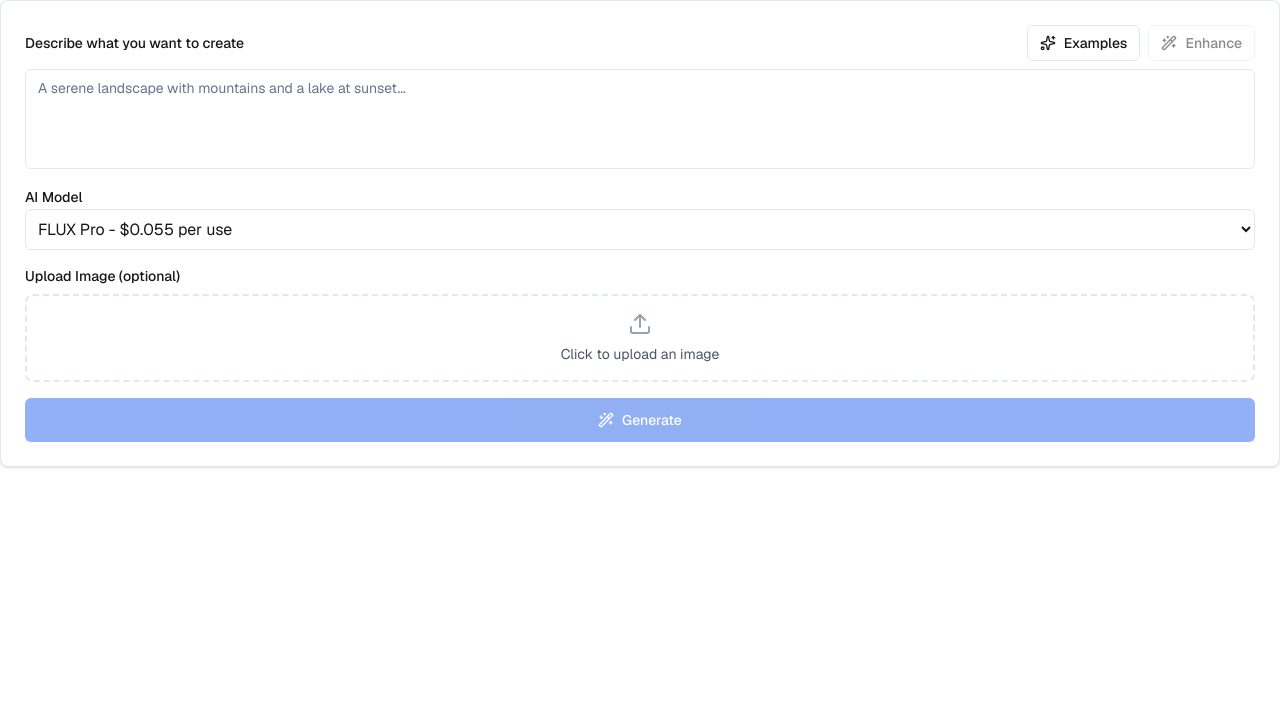
PromptInput Component › shows enhanced prompt when enhance is clicked
Type "mountain landscape" into the text box with placeholder "A serene landscape with mountains and a lake at sunset...".
click(640, 119); type("mountain landscape")  # box [25,69,1255,169]
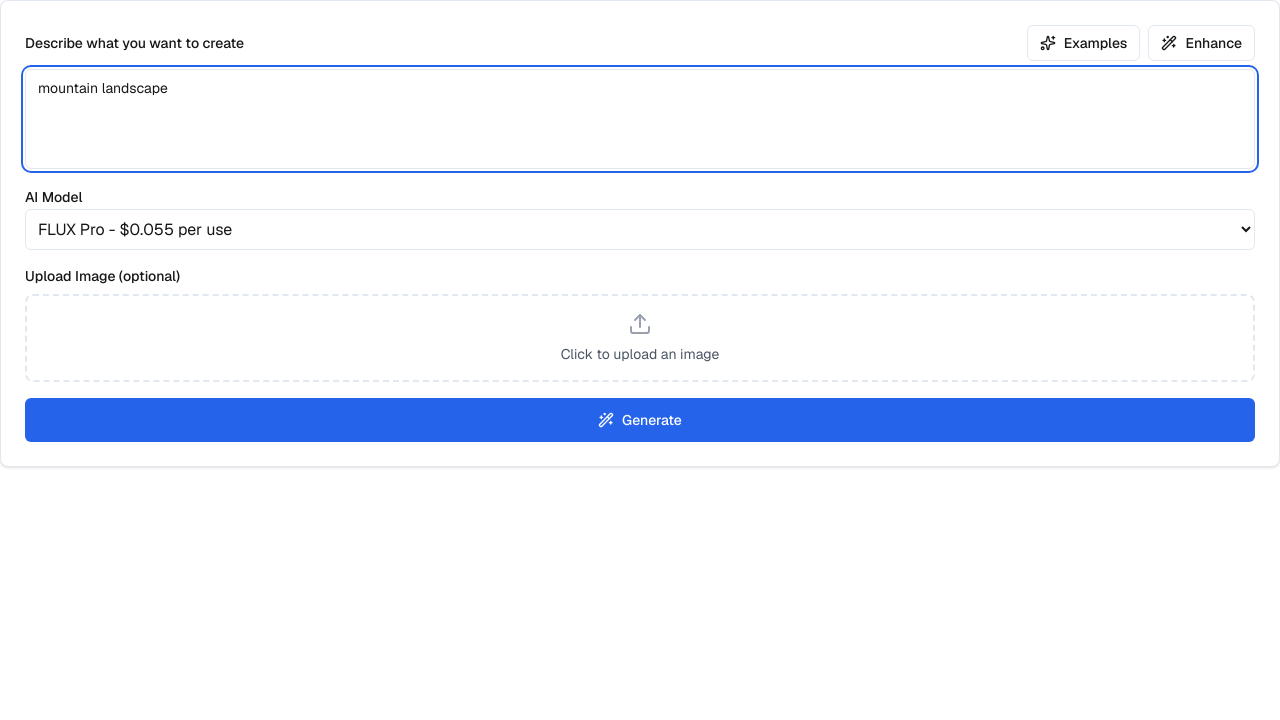
Click the button "Enhance".
click(1202, 43)  # box [1148,25,1255,61]
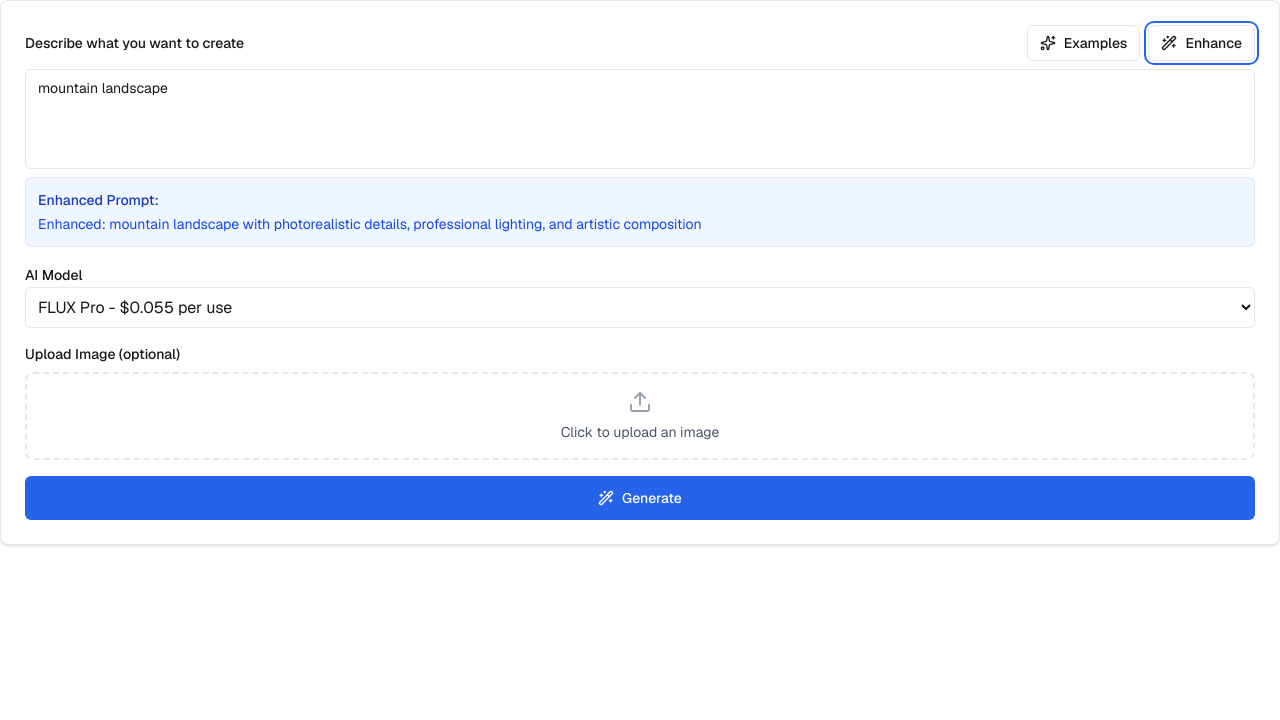
Result: the text "Enhanced Prompt:" is shown at [38,191,159,209]
Result: the text "Enhanced: mountain landscape with photorealistic details" is shown at [38,215,702,233]
